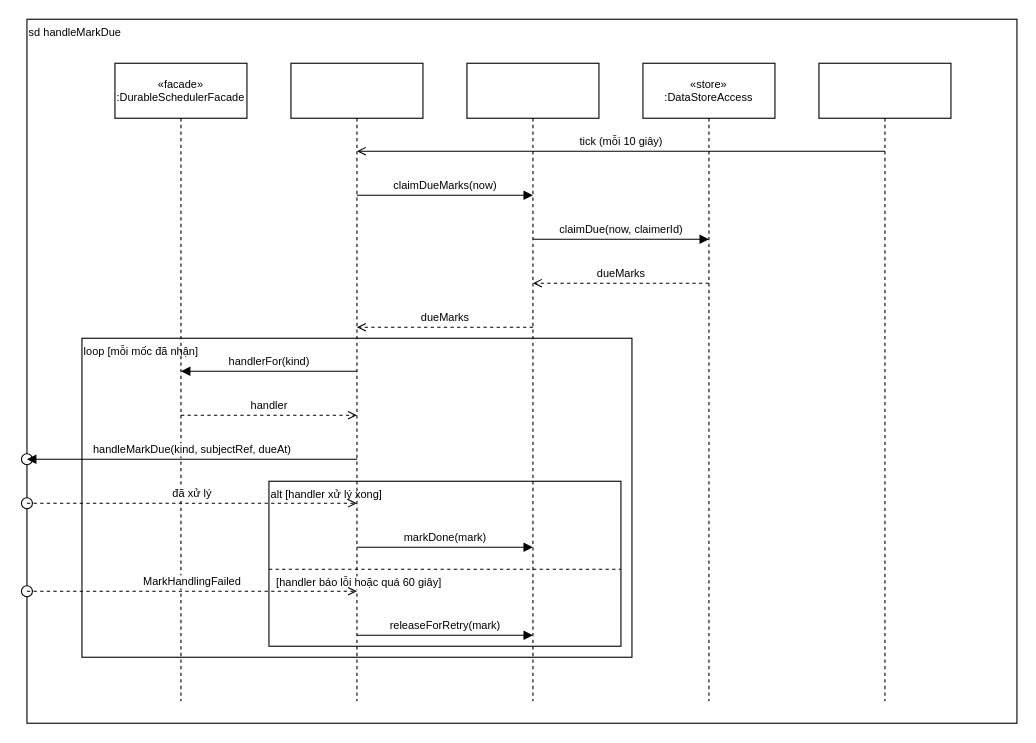
Some shapes in this 1036 by 743 pixel diagram are drawn without their labels. The box of each missing label's shape, as (x1, y1, x2, y2) in pixels:
«actor» Bộ định thời (ACT-13, ACT-14): (818, 62, 951, 701)
«facade» :MarkPoller: (290, 62, 423, 701)
«store» :MarkStore: (466, 62, 599, 701)
